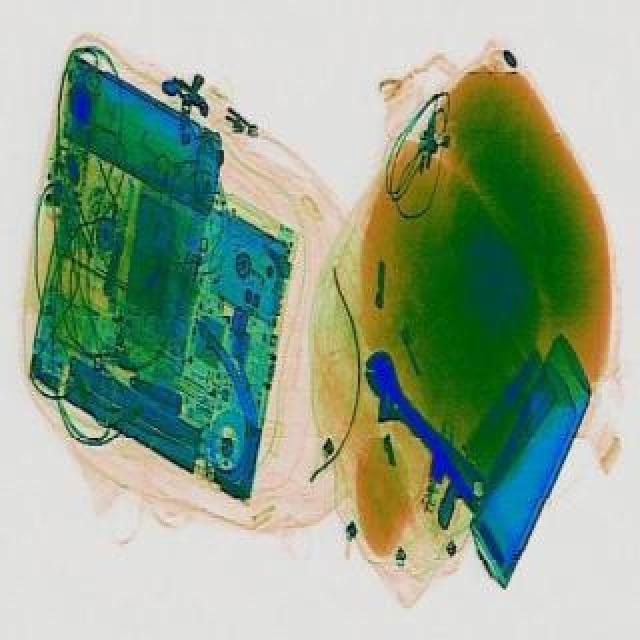scissors: (346, 342, 510, 506)
